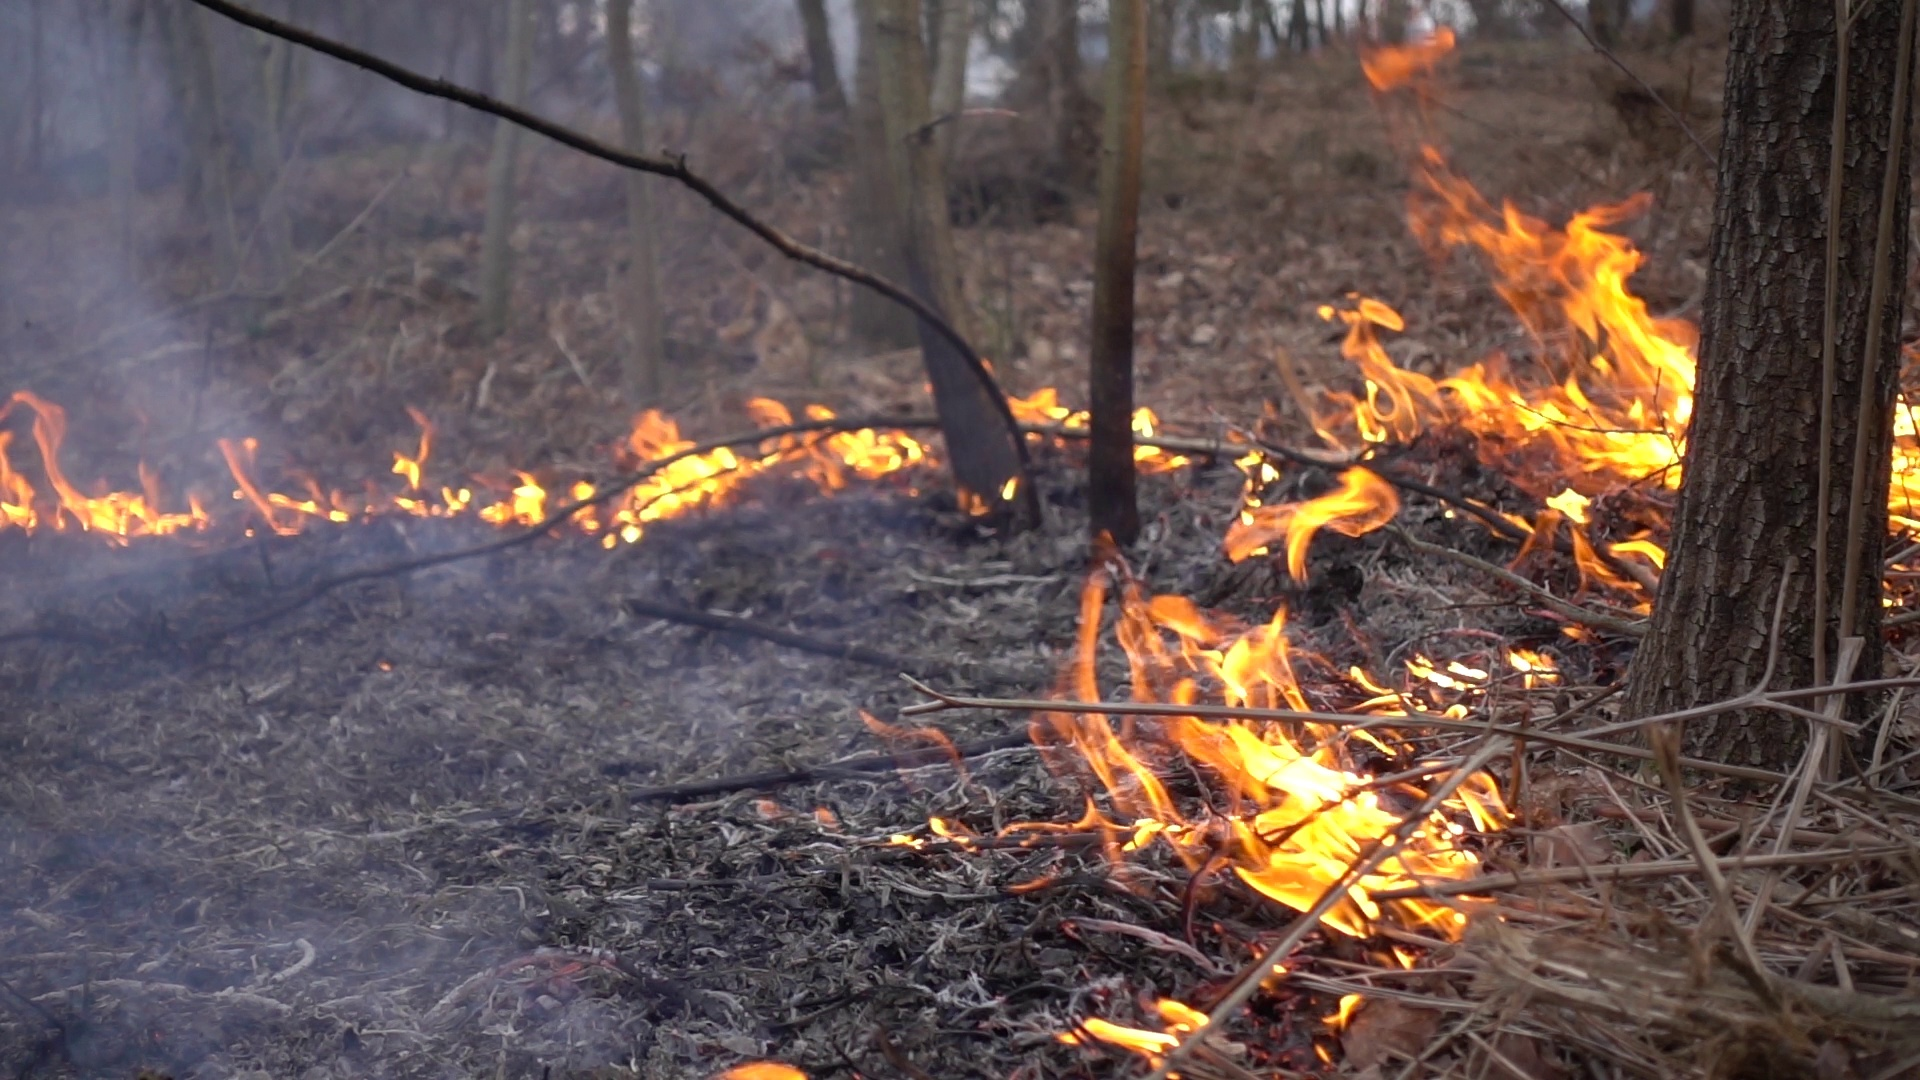fire: (1236, 187, 1697, 582), (1063, 568, 1481, 949), (4, 409, 195, 538), (607, 410, 738, 530), (764, 404, 922, 484), (237, 460, 364, 524), (384, 462, 471, 514), (1888, 406, 1920, 525), (1006, 385, 1083, 434), (1129, 405, 1188, 465), (489, 483, 547, 527)
